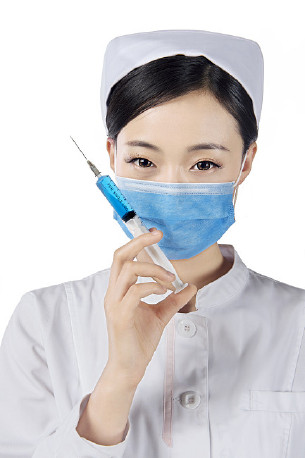face_mask: (112, 104, 237, 257)
